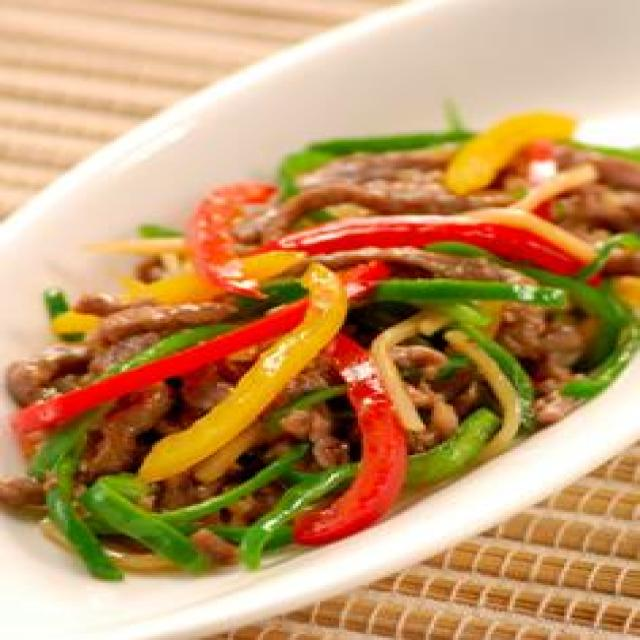牛肉菜式: (0, 114, 640, 577)
